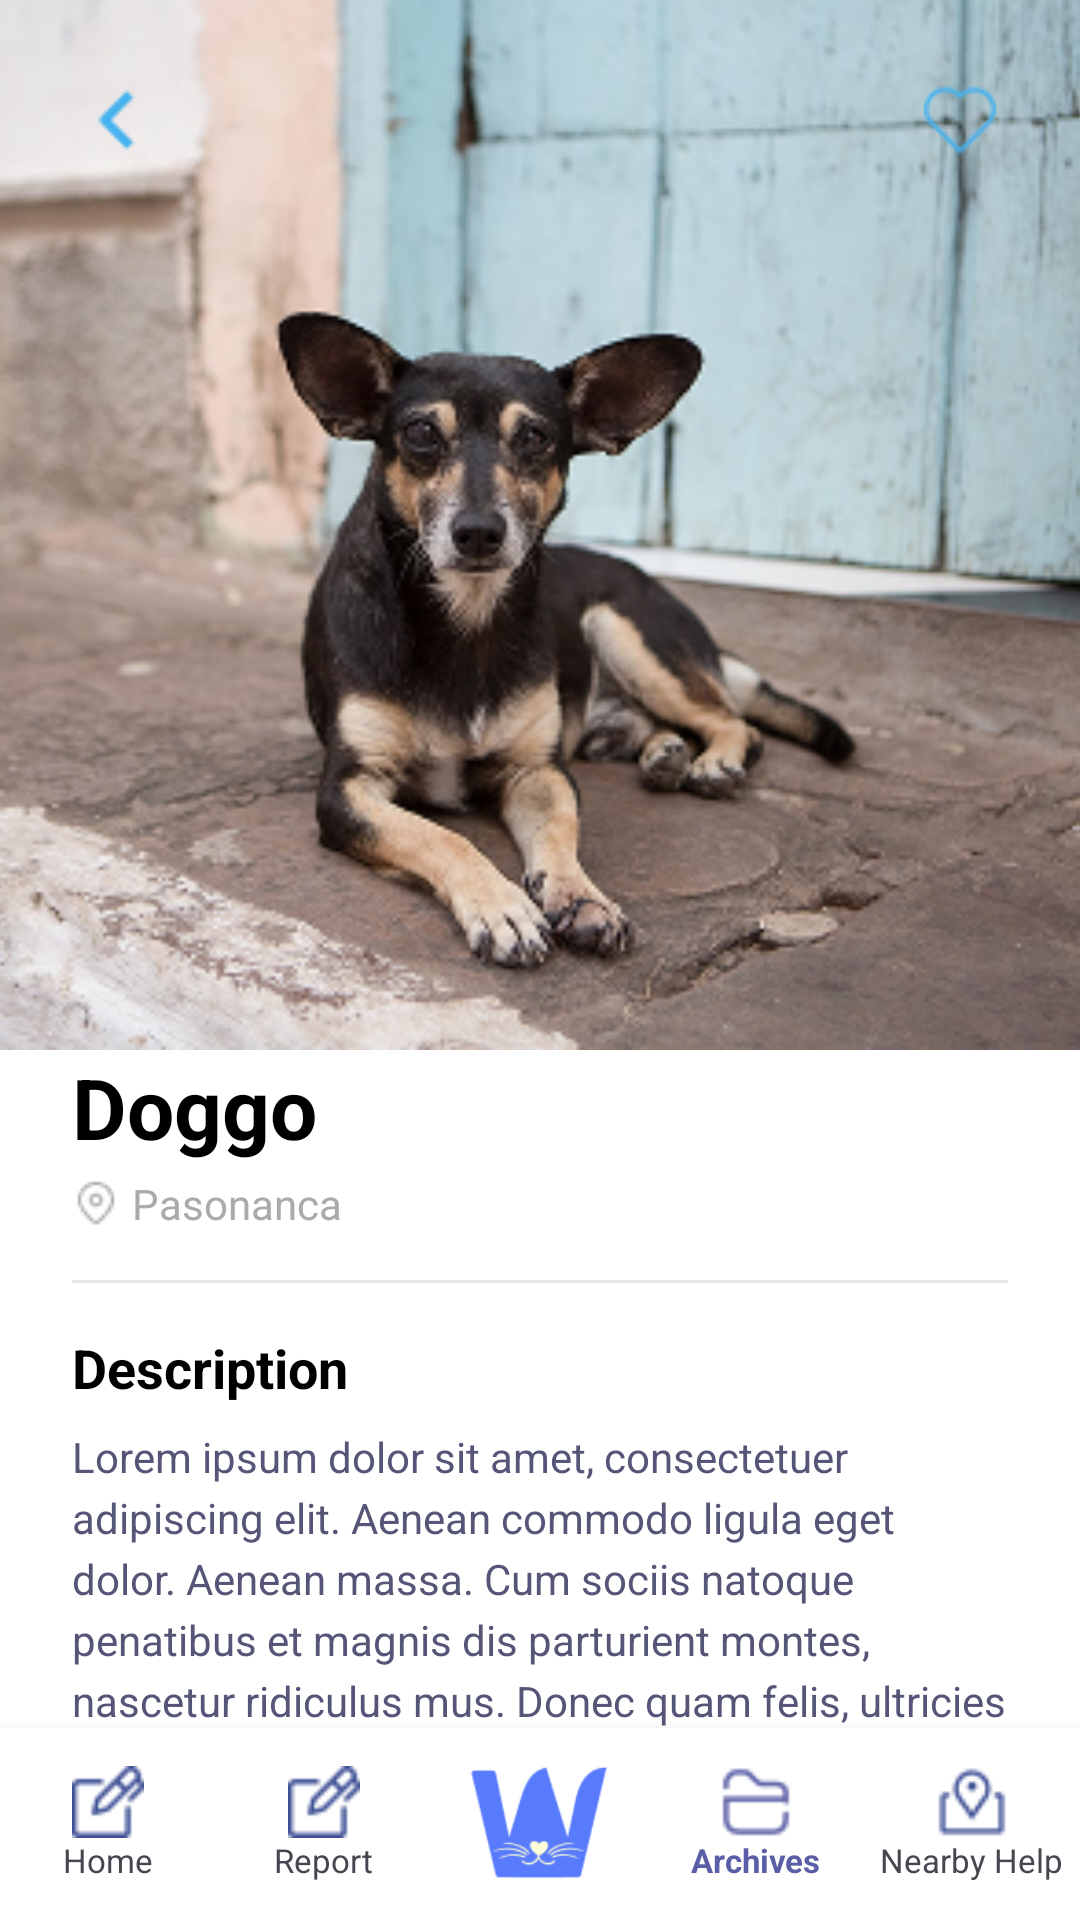

Screen size 1080px x 1920px. Icon name, then its center in pixels as [x,y]:
map pin: [96,1203]
